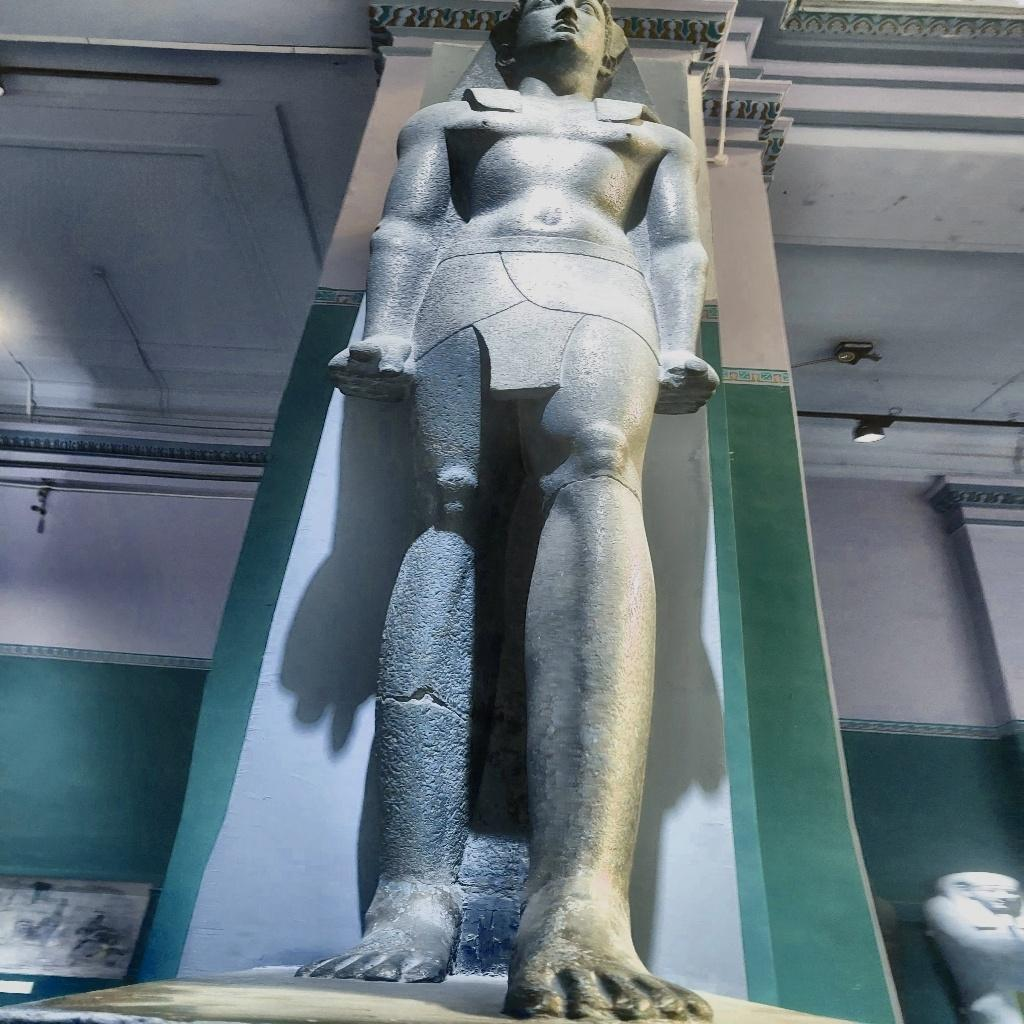Augustus: (293, 0, 722, 1022)
